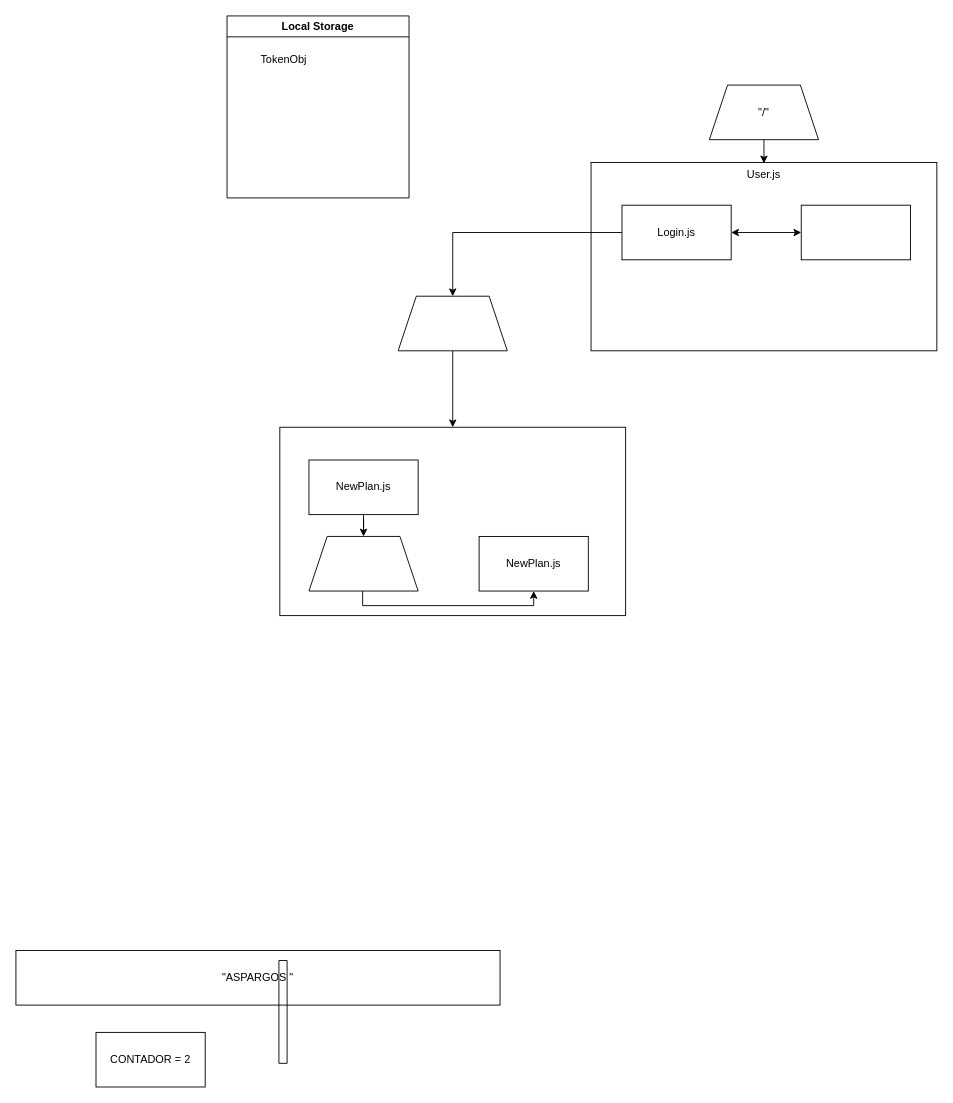
This 953x1103 diagram has some shape labels left out. Here are the shapes that lost their labels. From the top down, the box of each, then its label:
(800, 204, 910, 260): Signup.js
(397, 295, 507, 351): "/subscriptions"
(279, 426, 626, 616): Subscriptions.js
(308, 536, 418, 591): "/subscriptions /id_do_plano"
